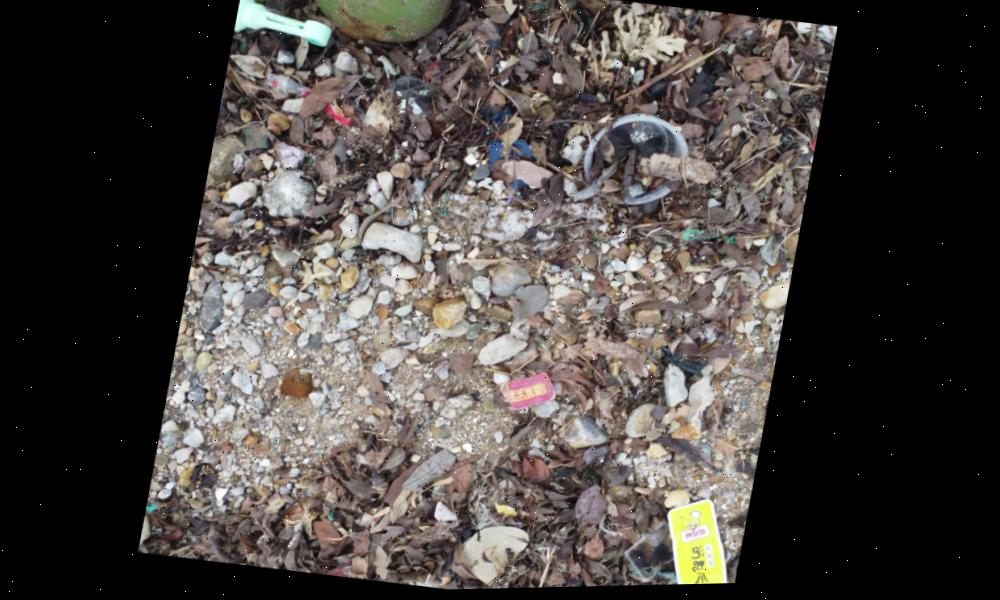plastic container: (575, 97, 706, 233)
